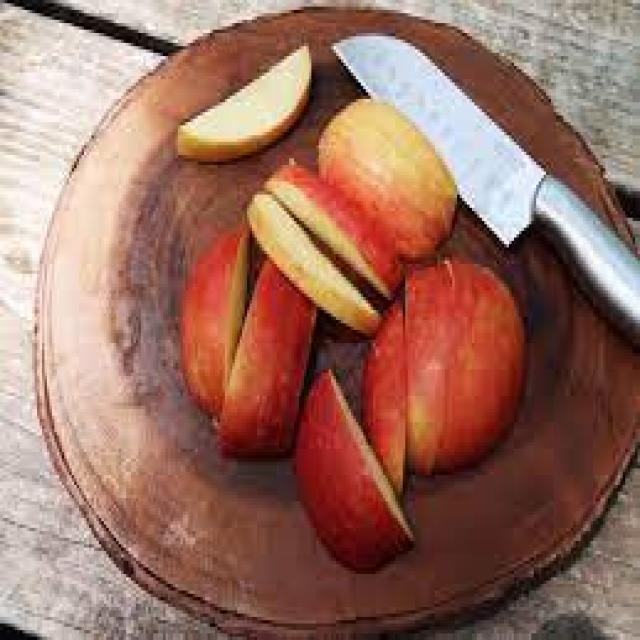Apple: (292, 366, 411, 562), (451, 249, 525, 471), (281, 162, 400, 296), (234, 249, 305, 469), (174, 46, 313, 152), (176, 220, 246, 394), (406, 259, 448, 480), (376, 308, 406, 489)
